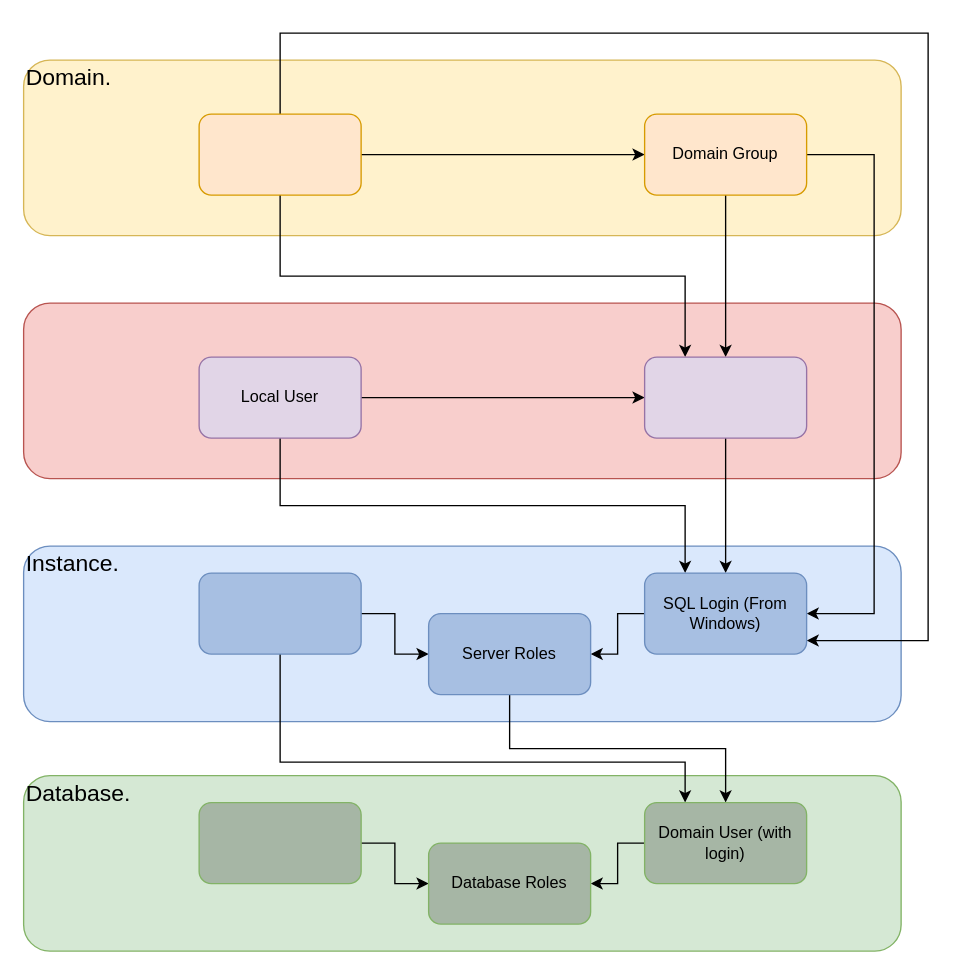
Image size: 963x975. Some labels were removed from this diagram. The box of each missing label's shape, as (x1, y1, x2, y2) in pixels:
Domain User: (198, 113, 361, 195)
Domain User (without Login): (198, 801, 361, 884)
Local Group: (643, 356, 807, 438)
Server.: (22, 302, 901, 479)
SQL Login (2nd tier authentication): (198, 572, 361, 654)
